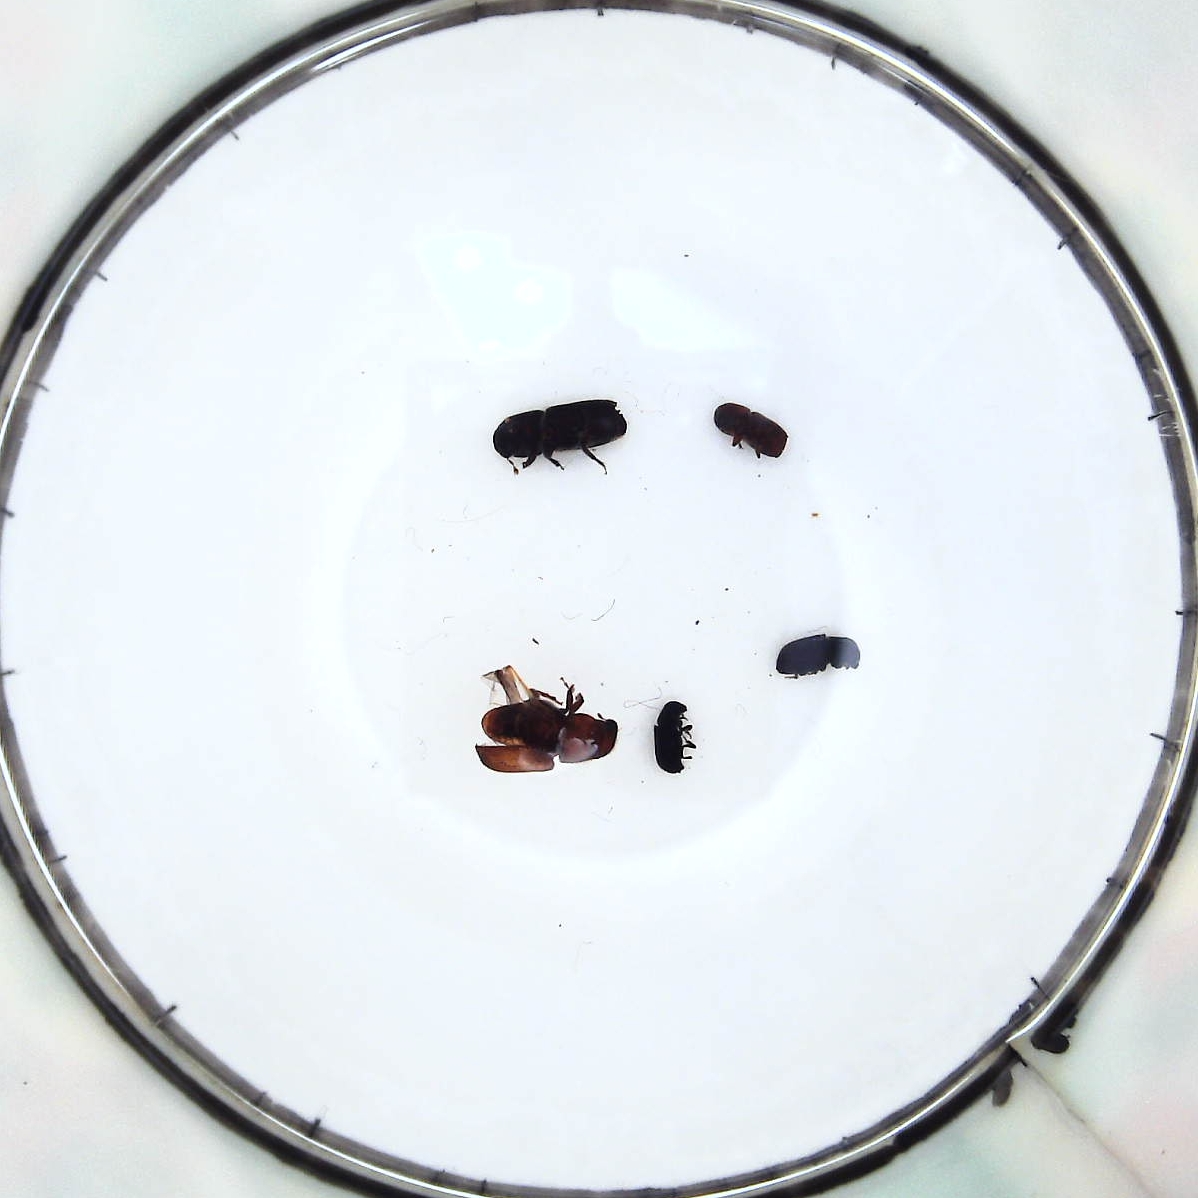Boerner: (491, 394, 630, 465)
Leconte: (479, 663, 618, 775)
Linnaeus: (717, 402, 794, 460)
armandi: (772, 629, 860, 680)
coleoptera: (649, 697, 689, 771)
